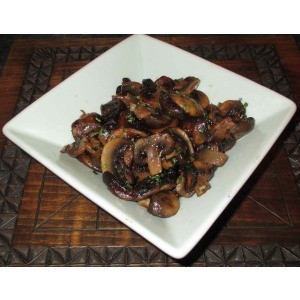mushroom_brain food: (85, 78, 223, 186)
